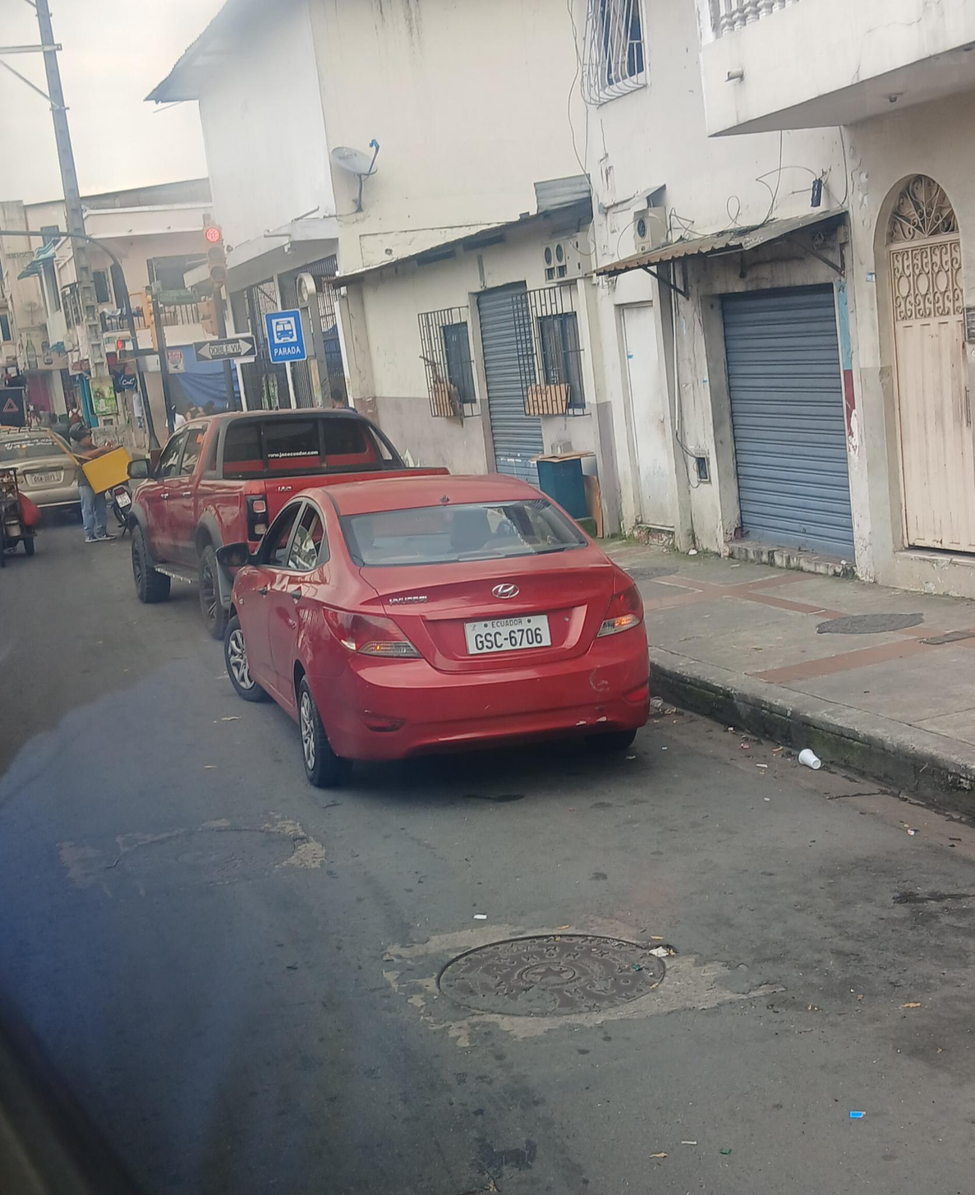license_plate: (465, 614, 550, 653), (26, 471, 62, 484), (115, 491, 131, 509)
